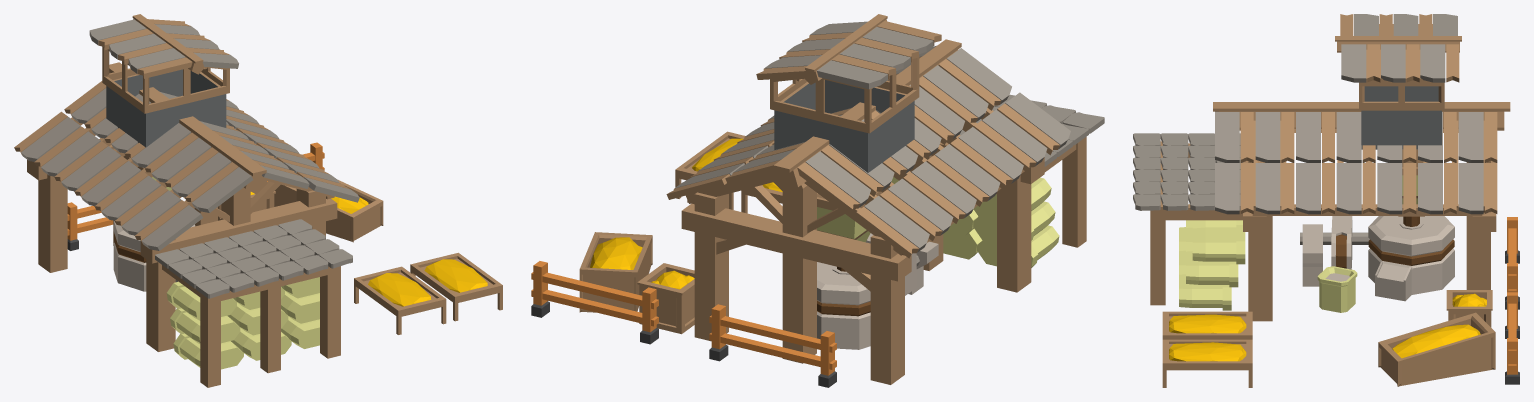
The model's file is Pabrik pengolahan padi.fbx.
The picture shows the model from 3 angles, left to right: view 1: azimuth 30°, elevation 25°; view 2: azimuth 150°, elevation 25°; view 3: azimuth 270°, elevation 25°; orthographic projection. The views are drawn at different scales.
Visible parts, largest first — view 1: Pabrik Padi; view 2: Pabrik Padi; view 3: Pabrik Padi.
Boxes of the visible parts, box(x1,y1,x2,y2) form: Pabrik Padi: box(14, 14, 502, 387); Pabrik Padi: box(531, 14, 1104, 387); Pabrik Padi: box(1133, 14, 1519, 387).
Size of the model in its own units: 6.29 by 4.48 by 6.45.
